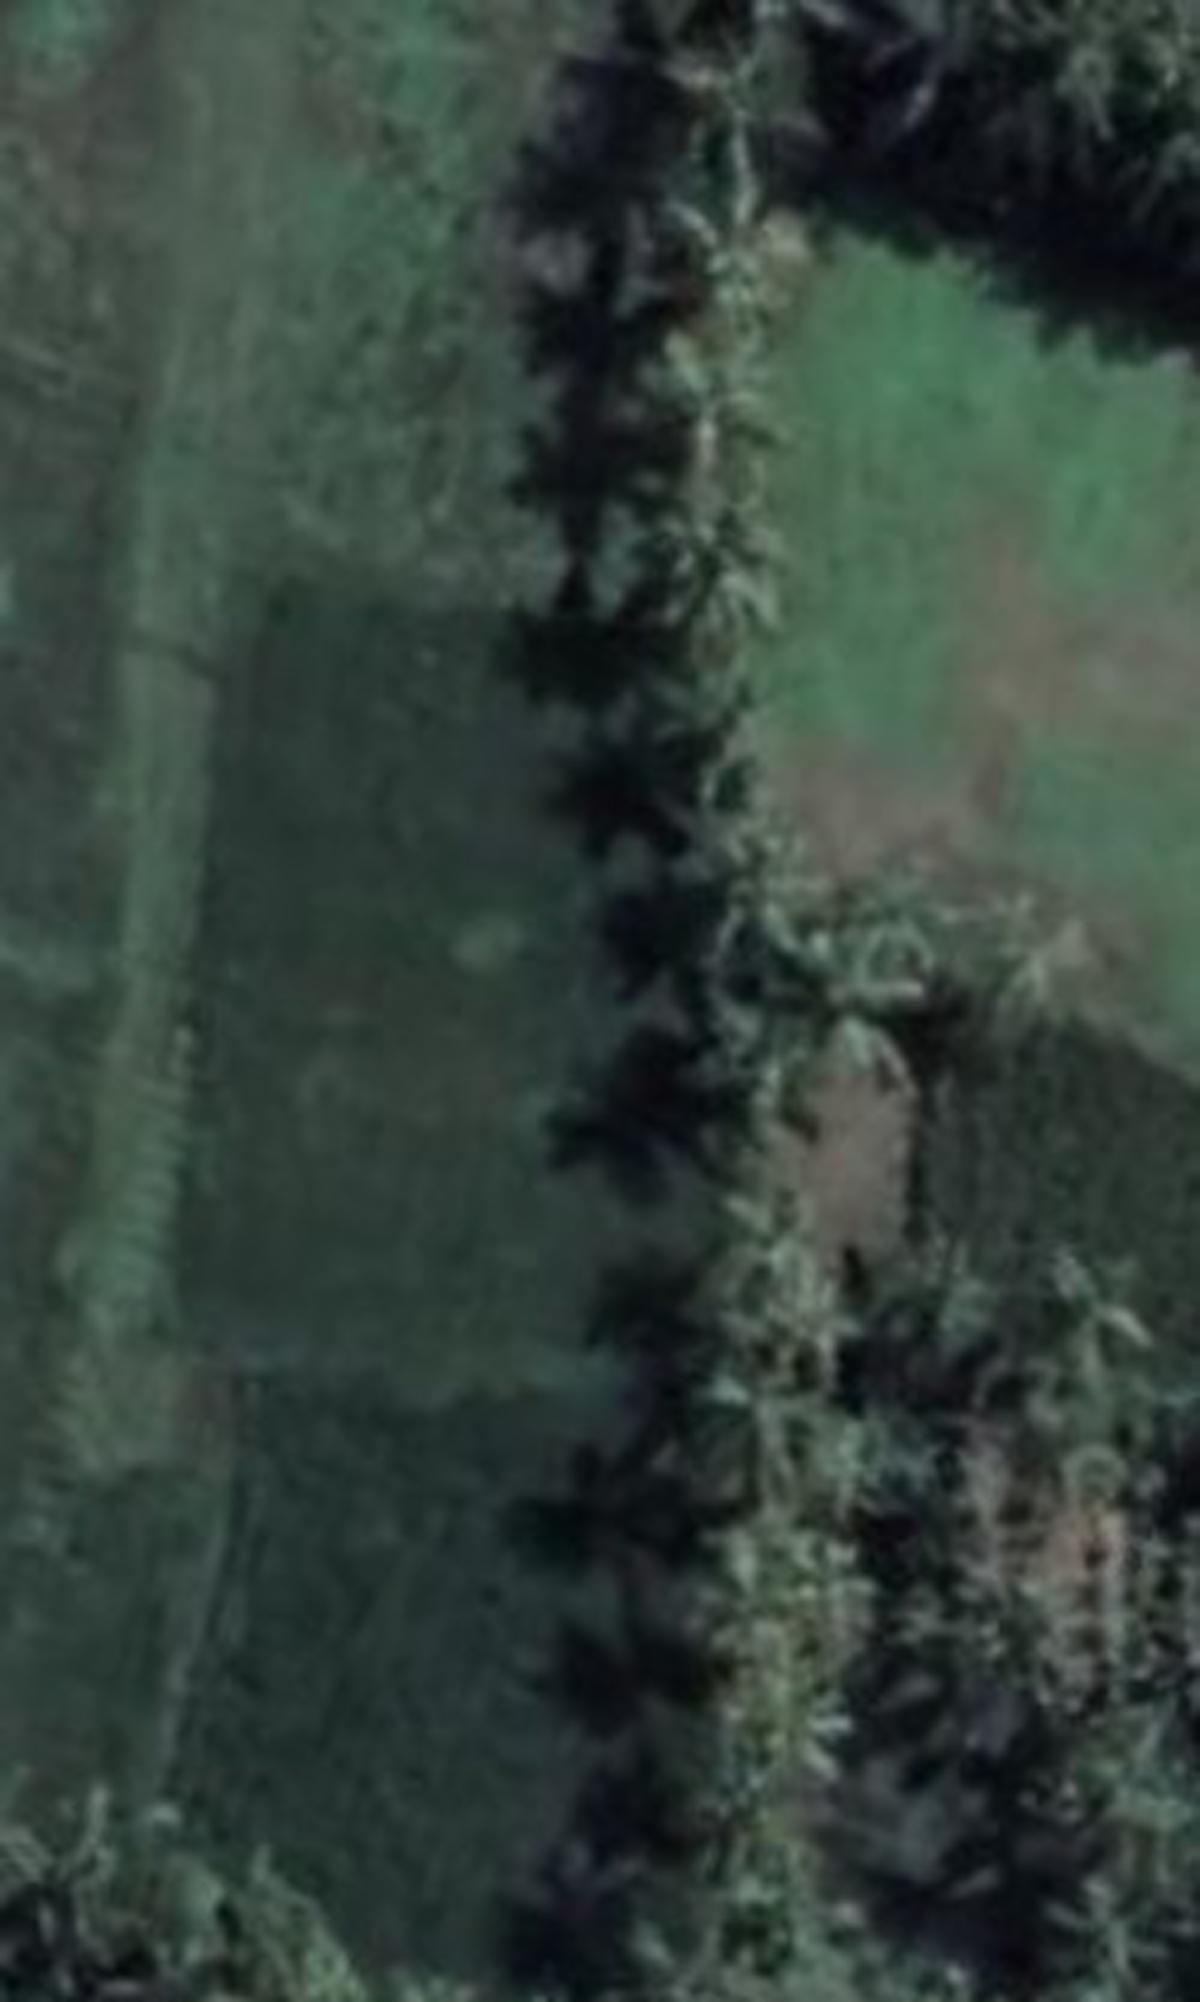coconut: (651, 476, 830, 663), (686, 1171, 864, 1358), (639, 171, 820, 336), (619, 336, 787, 480), (691, 1526, 854, 1675), (671, 1834, 830, 1973), (686, 1374, 844, 1512), (696, 1681, 840, 1819), (649, 663, 787, 805), (696, 850, 816, 960), (704, 1022, 801, 1137)
